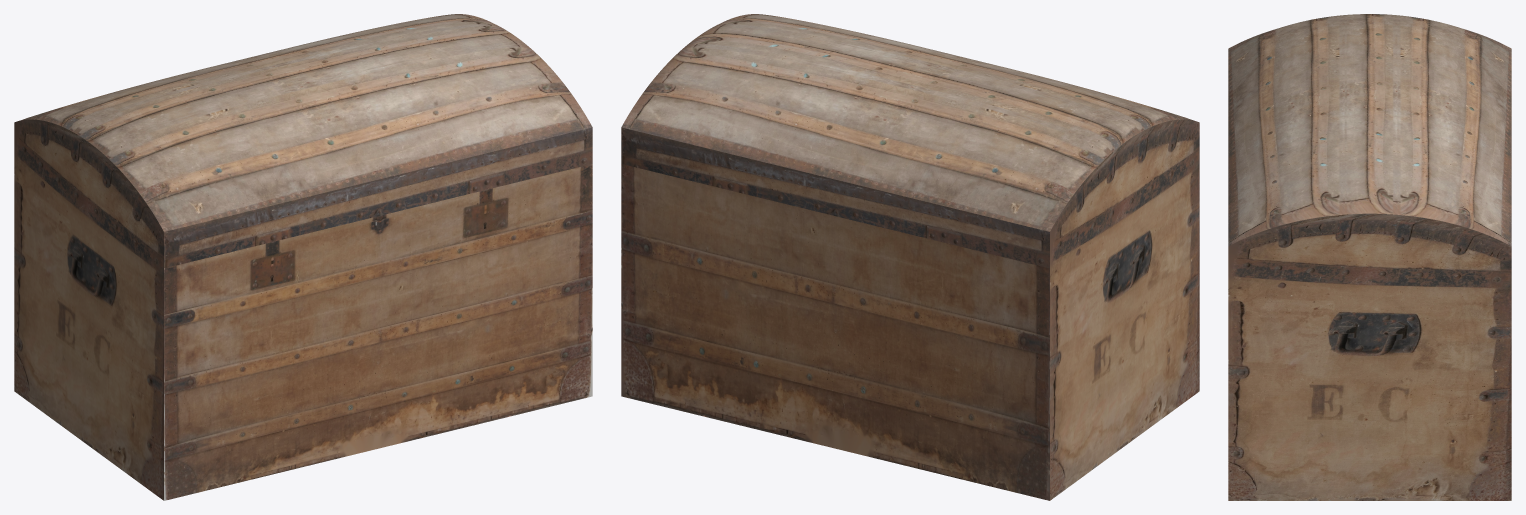
The model's file is Truhe_v2.glb.
3 renders of one model, left to right at view 1: azimuth 30°, elevation 25°; view 2: azimuth 150°, elevation 25°; view 3: azimuth 270°, elevation 25°, orthographic. The views are drawn at different scales.
Parts seen in each view (by area): view 1: Truhe_Korpus, Truhe_Deckel; view 2: Truhe_Korpus, Truhe_Deckel; view 3: Truhe_Deckel, Truhe_Korpus.
Boxes of the visible parts, box(x1,y1,x2,y2) form: Truhe_Korpus: box(14, 159, 592, 500); Truhe_Deckel: box(14, 14, 592, 268); Truhe_Korpus: box(621, 159, 1199, 500); Truhe_Deckel: box(621, 14, 1199, 268); Truhe_Deckel: box(1228, 14, 1511, 280); Truhe_Korpus: box(1228, 281, 1511, 500).
Bounding box in the file's own units: 0.75 × 0.5392 × 0.4539.
8 materials, 7 textured.
